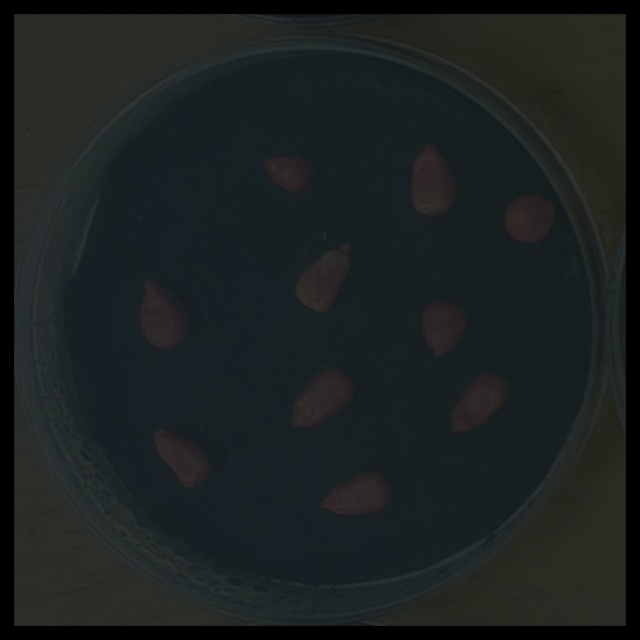Zea mays: (291, 232, 360, 318), (284, 360, 362, 433), (445, 363, 519, 438), (133, 271, 197, 353), (404, 134, 464, 221), (148, 420, 218, 494), (313, 464, 397, 522), (414, 291, 476, 362), (498, 188, 562, 248), (255, 145, 324, 199)
